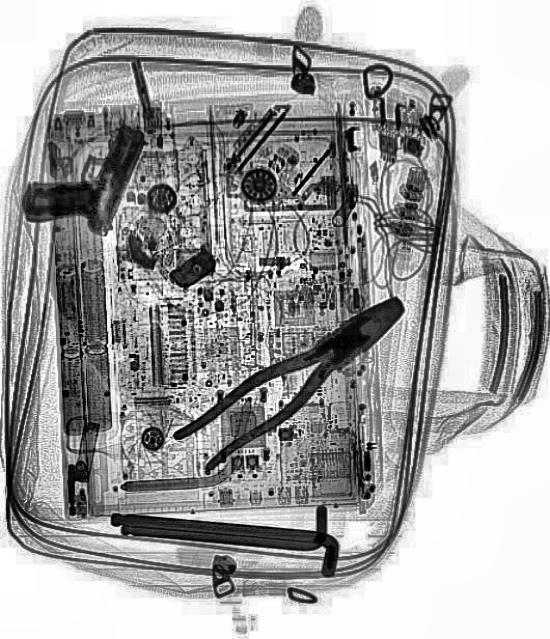Gun: (11, 94, 153, 256)
Pliers: (168, 278, 414, 480)
